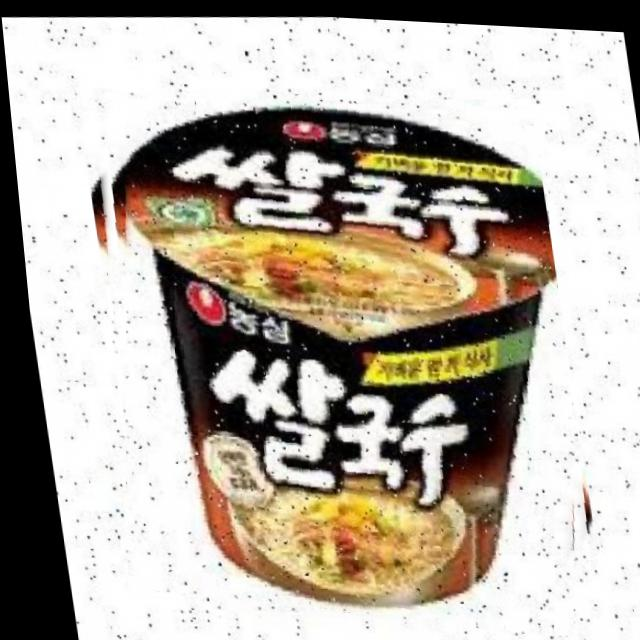Miscellaneous: (62, 73, 598, 640)
